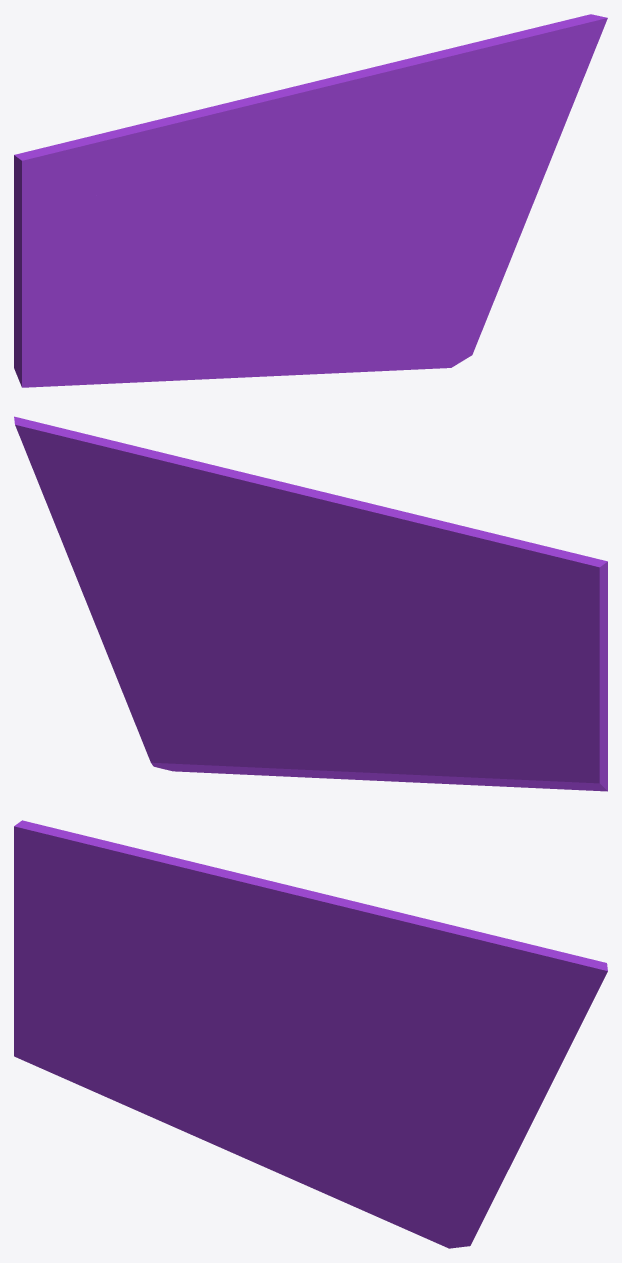
Rendered from Glass_10_0_chunks.fbx.
3 renders of one model, top to bottom at view 1: azimuth 30°, elevation 25°; view 2: azimuth 150°, elevation 25°; view 3: azimuth 330°, elevation 25°, orthographic.
Visible parts, largest first — view 1: Glass_10_0_7, Glass_10_0_15, Glass_10_0_2, Glass_10_0_14, Glass_10_0_1, Glass_10_0_5, Glass_10_0_6, Glass_10_0_0, Glass_10_0_11, Glass_10_0_13, Glass_10_0_10, Glass_10_0_9 (+2 smaller); view 2: Glass_10_0_7, Glass_10_0_2, Glass_10_0_1, Glass_10_0_15, Glass_10_0_0, Glass_10_0_14, Glass_10_0_6, Glass_10_0_5, Glass_10_0_11, Glass_10_0_10, Glass_10_0_12, Glass_10_0_4 (+1 smaller); view 3: Glass_10_0_7, Glass_10_0_15, Glass_10_0_2, Glass_10_0_14, Glass_10_0_1, Glass_10_0_5, Glass_10_0_6, Glass_10_0_0, Glass_10_0_11, Glass_10_0_13, Glass_10_0_10, Glass_10_0_9 (+2 smaller).
Part boxes in pixels (box(x1,y1,x2,y2)): Glass_10_0_7: box(380, 14, 607, 236); Glass_10_0_15: box(218, 61, 417, 260); Glass_10_0_2: box(14, 221, 162, 387); Glass_10_0_14: box(18, 98, 250, 200); Glass_10_0_1: box(158, 228, 300, 381); Glass_10_0_5: box(395, 216, 527, 360); Glass_10_0_6: box(321, 137, 434, 308); Glass_10_0_0: box(14, 151, 197, 261); Glass_10_0_11: box(206, 263, 343, 379); Glass_10_0_13: box(112, 176, 251, 244); Glass_10_0_10: box(359, 302, 462, 370); Glass_10_0_9: box(294, 322, 389, 375); Glass_10_0_7: box(14, 416, 244, 644); Glass_10_0_2: box(462, 628, 607, 791); Glass_10_0_1: box(300, 619, 467, 784); Glass_10_0_15: box(207, 463, 394, 651); Glass_10_0_0: box(407, 563, 607, 672); Glass_10_0_14: box(364, 504, 607, 602); Glass_10_0_6: box(192, 538, 302, 724); Glass_10_0_5: box(97, 629, 225, 768); Glass_10_0_11: box(264, 674, 420, 782); Glass_10_0_10: box(161, 711, 269, 774); Glass_10_0_12: box(356, 578, 428, 634); Glass_10_0_4: box(172, 634, 232, 729); Glass_10_0_7: box(377, 915, 607, 1132); Glass_10_0_15: box(213, 878, 414, 1067); Glass_10_0_2: box(14, 893, 156, 1119); Glass_10_0_14: box(14, 823, 257, 939); Glass_10_0_1: box(152, 982, 296, 1138); Glass_10_0_5: box(392, 1107, 526, 1247); Glass_10_0_6: box(317, 979, 431, 1160); Glass_10_0_0: box(14, 820, 191, 988); Glass_10_0_11: box(201, 1068, 340, 1177); Glass_10_0_13: box(105, 910, 247, 1025); Glass_10_0_10: box(355, 1149, 460, 1248); Glass_10_0_9: box(290, 1149, 385, 1220).
Bounding box in the file's own units: 1140 × 580 × 27.2.
